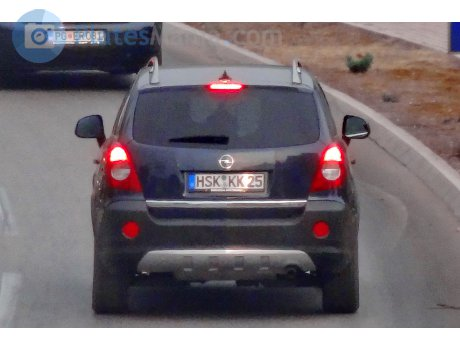License Plates: (186, 173, 266, 189), (49, 30, 108, 42)
